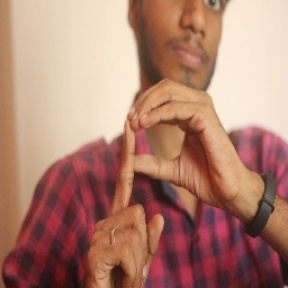P: (78, 75, 244, 287)
